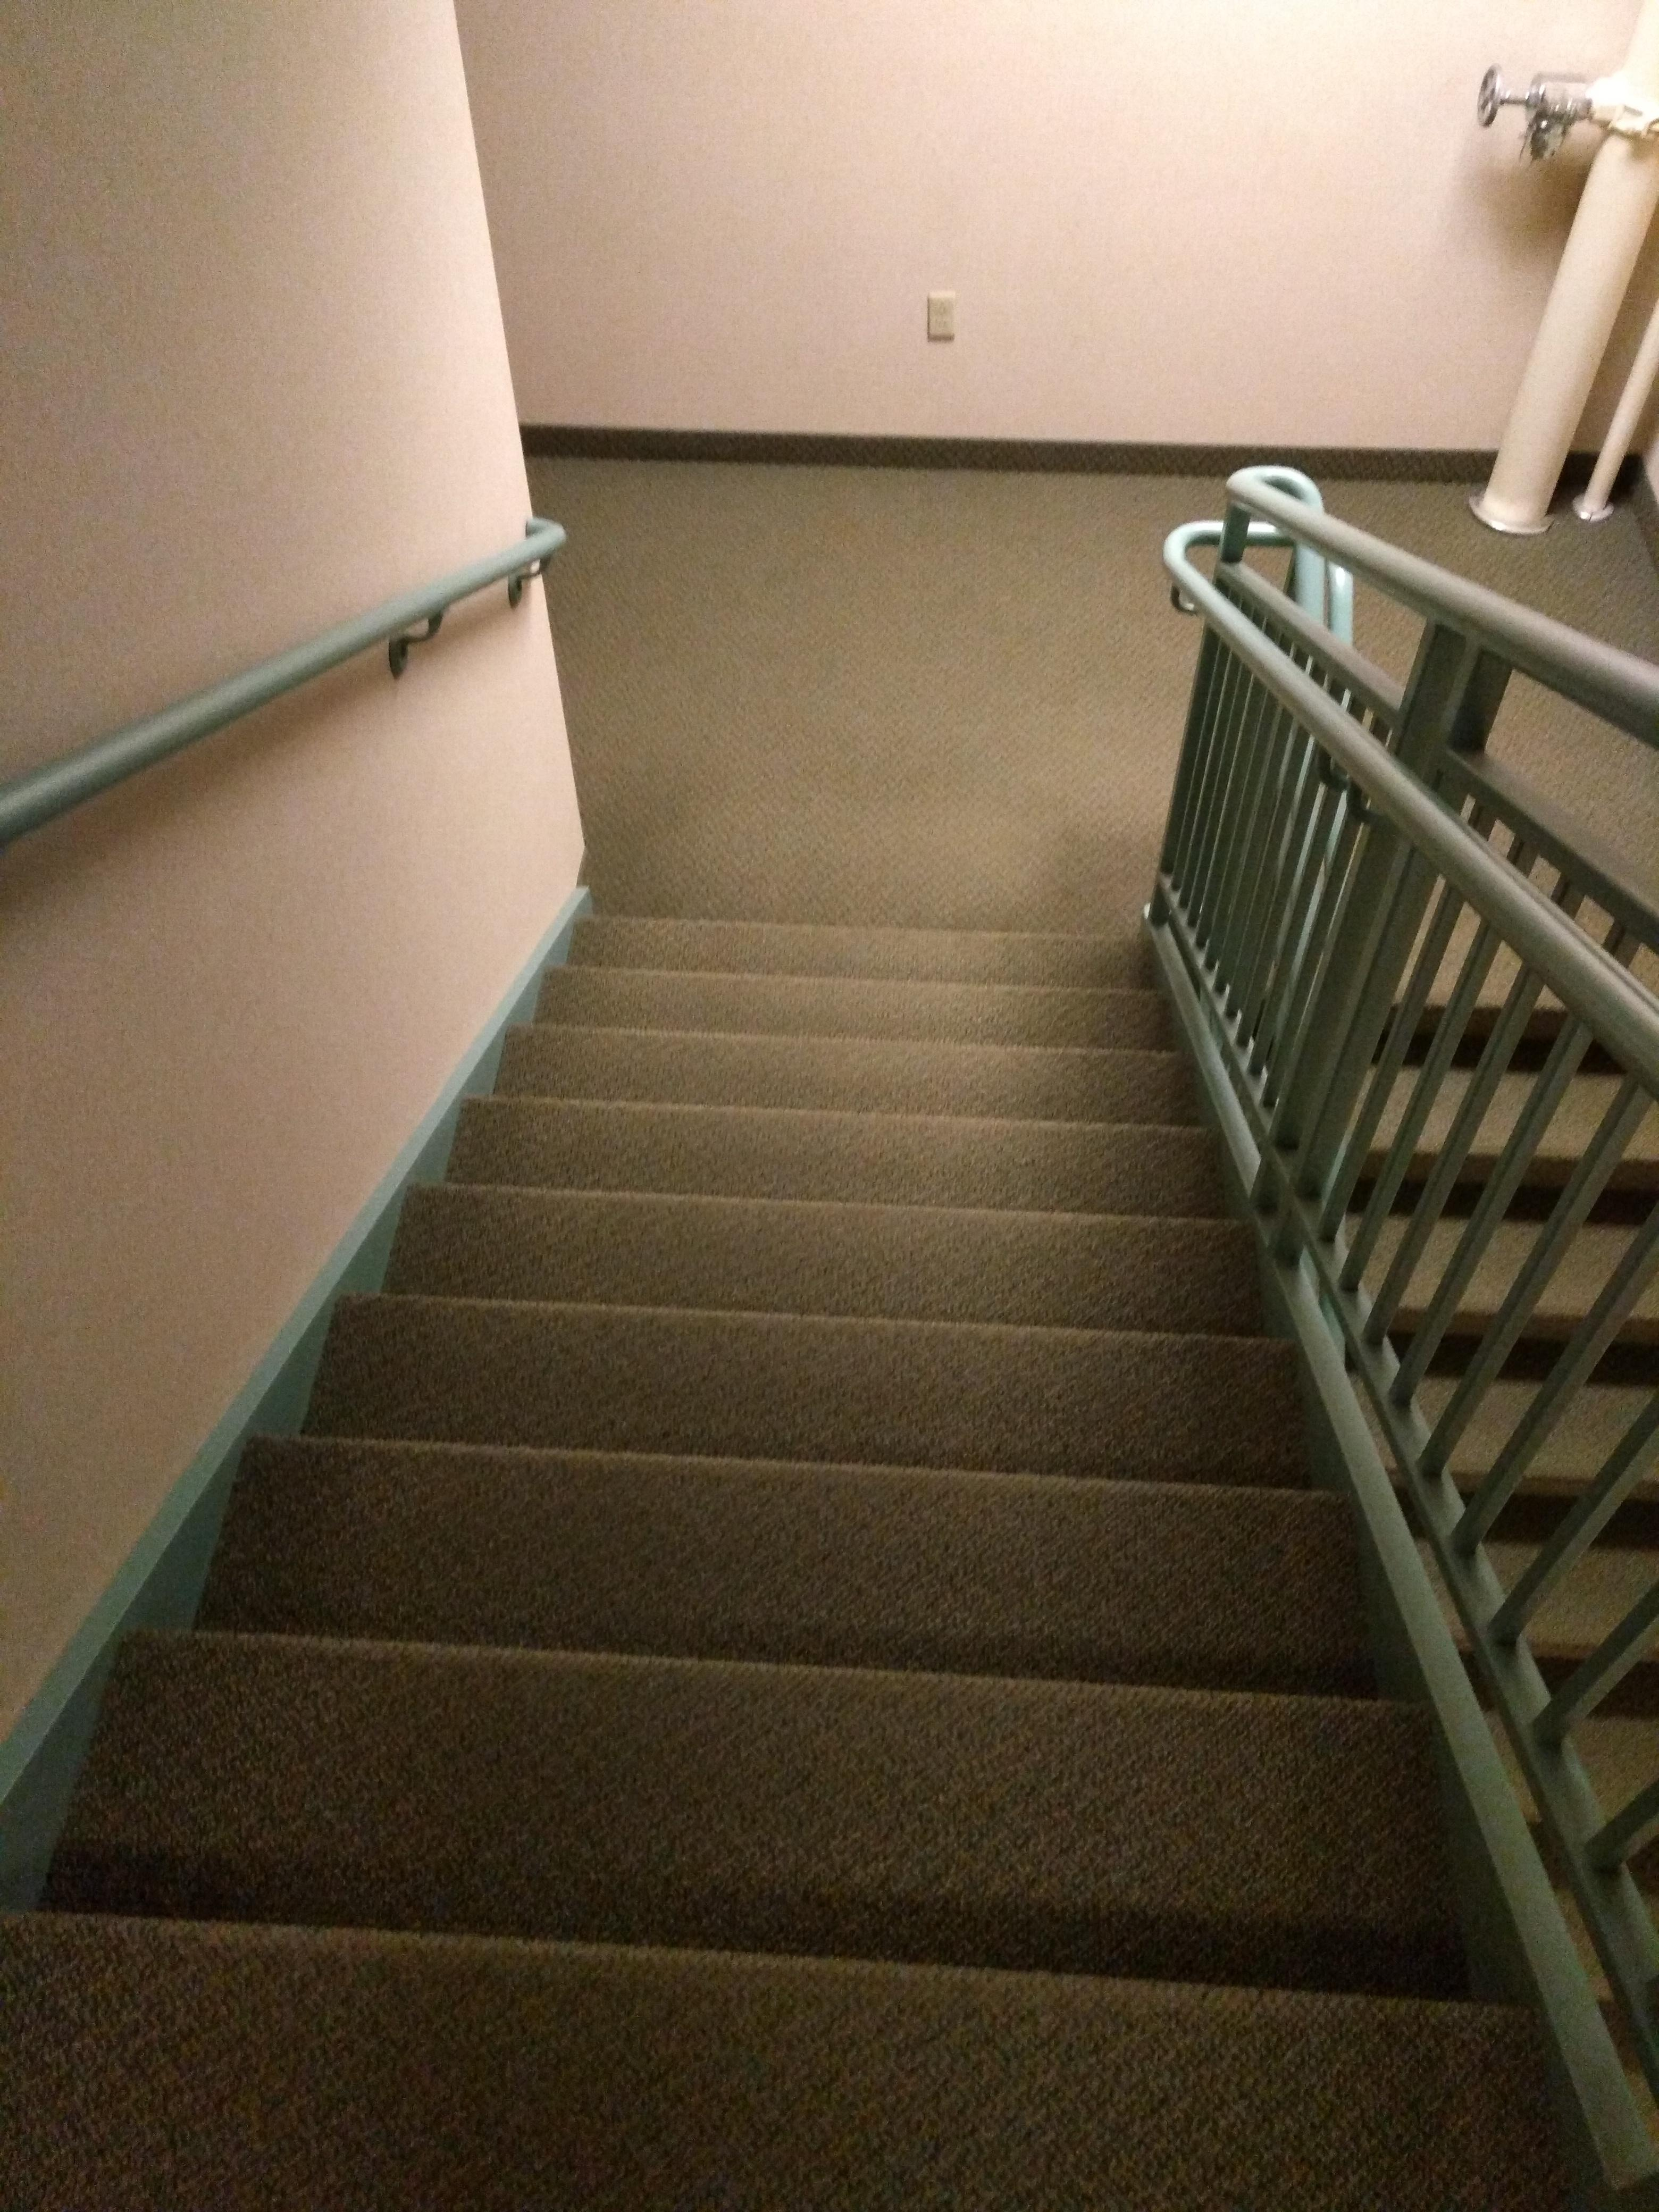stairs_down: (49, 911, 1513, 2088)
